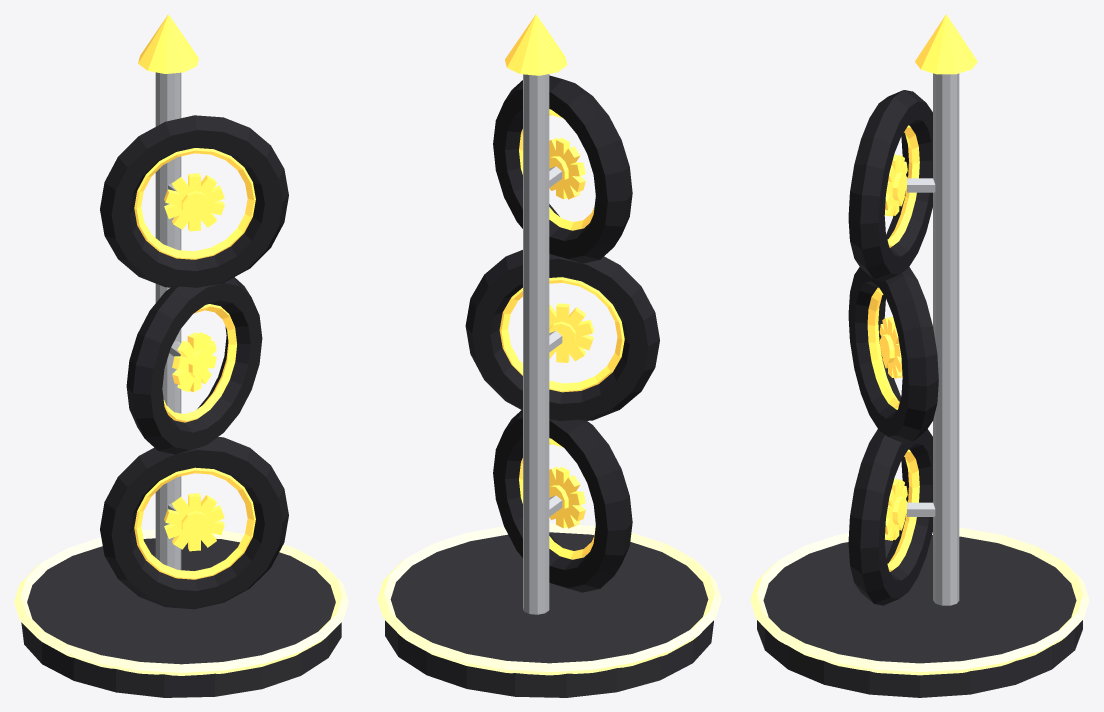
File: lux_gold_rim_tower.glb
3 views of the same model, side by side, from view 1: azimuth 30°, elevation 25°; view 2: azimuth 150°, elevation 25°; view 3: azimuth 270°, elevation 25° (orthographic). The views are drawn at different scales.
Visible parts, largest first — view 1: lux_gold_rim_tower; view 2: lux_gold_rim_tower; view 3: lux_gold_rim_tower.
Part boxes in pixels (<box>): lux_gold_rim_tower: <box>14,14,348,697</box>; lux_gold_rim_tower: <box>377,14,721,697</box>; lux_gold_rim_tower: <box>750,14,1089,697</box>.
Size of the model in its own units: 1.29 by 2.58 by 1.29.
